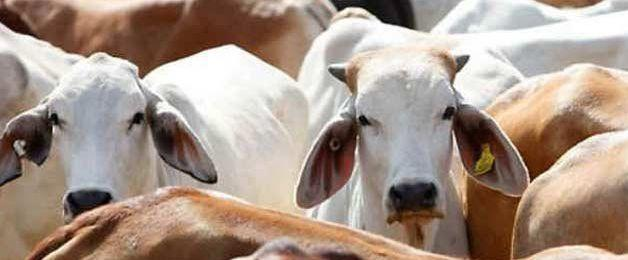muzzles: (383, 175, 447, 230)
